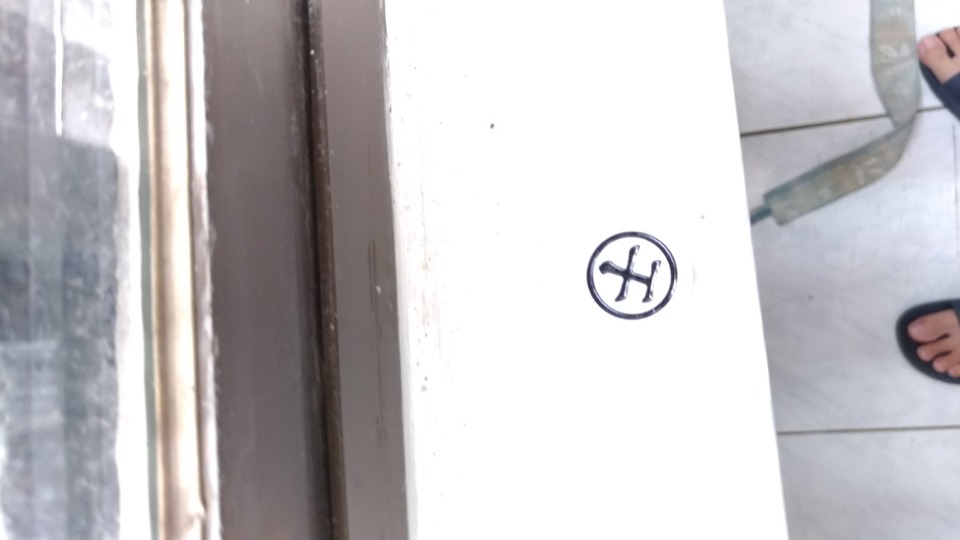b-advisor: (558, 218, 707, 336)
